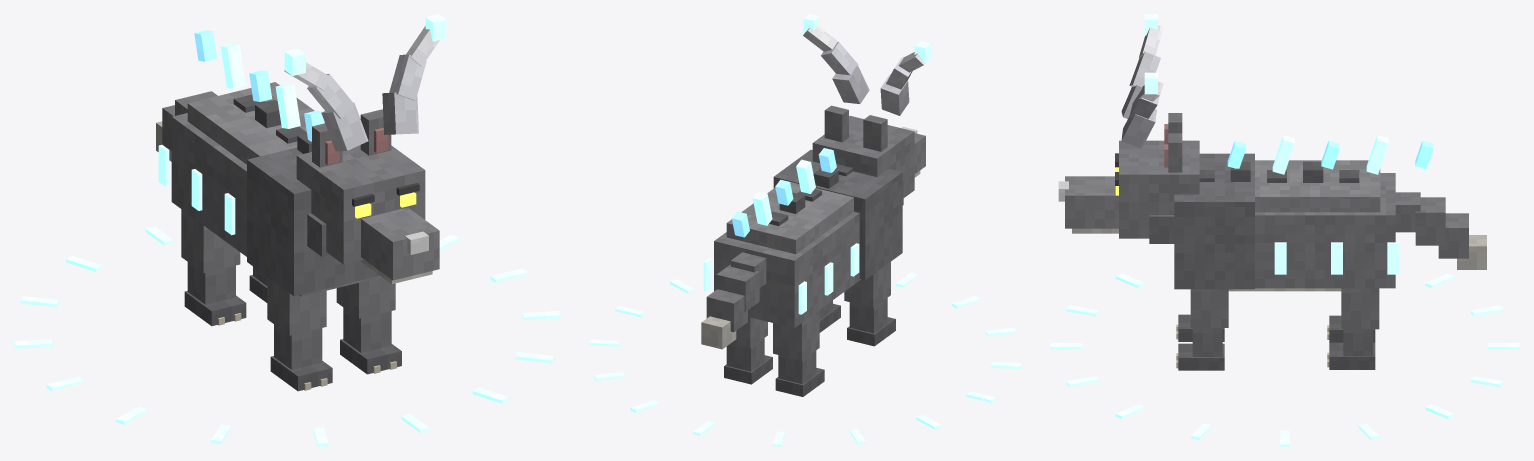
Rendered from wolf_evo2.glb.
The picture shows the model from 3 angles, left to right: view 1: azimuth 30°, elevation 25°; view 2: azimuth 150°, elevation 25°; view 3: azimuth 270°, elevation 25°; orthographic projection. The views are drawn at different scales.
Visible parts, largest first — view 1: Torso, Head, ArmR, LegR, ArmL, Root; view 2: Torso, Head, LegR, ArmR, Root, LegL, ArmL; view 3: Torso, Head, LegL, ArmL, Root, ArmR, LegR.
Boxes of the visible parts, left/top/right/bottom form: Torso: left=156, top=30, right=381, bottom=296; Head: left=284, top=14, right=446, bottom=283; ArmR: left=267, top=277, right=332, bottom=391; LegR: left=181, top=209, right=246, bottom=326; ArmL: left=336, top=277, right=401, bottom=374; Root: left=14, top=226, right=560, bottom=446; Torso: left=701, top=148, right=902, bottom=349; Head: left=803, top=14, right=931, bottom=205; LegR: left=773, top=310, right=824, bottom=396; ArmR: left=844, top=262, right=895, bottom=346; Root: left=589, top=272, right=1021, bottom=446; LegL: left=724, top=317, right=772, bottom=384; ArmL: left=819, top=300, right=840, bottom=332; Torso: left=1174, top=135, right=1486, bottom=291; Head: left=1058, top=14, right=1199, bottom=243; LegL: left=1327, top=288, right=1379, bottom=369; ArmL: left=1176, top=289, right=1228, bottom=370; Root: left=1050, top=273, right=1519, bottom=446; ArmR: left=1176, top=314, right=1224, bottom=341; LegR: left=1327, top=315, right=1375, bottom=342.
Bounding box in the file's own units: 2.34 × 1.66 × 2.34.
18 materials, 18 textured.
